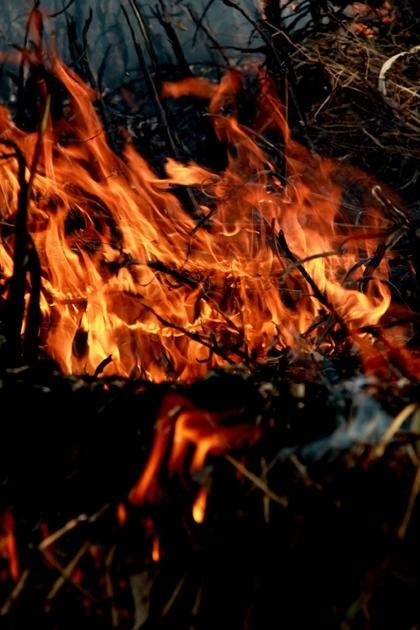fire: (0, 37, 375, 388)
